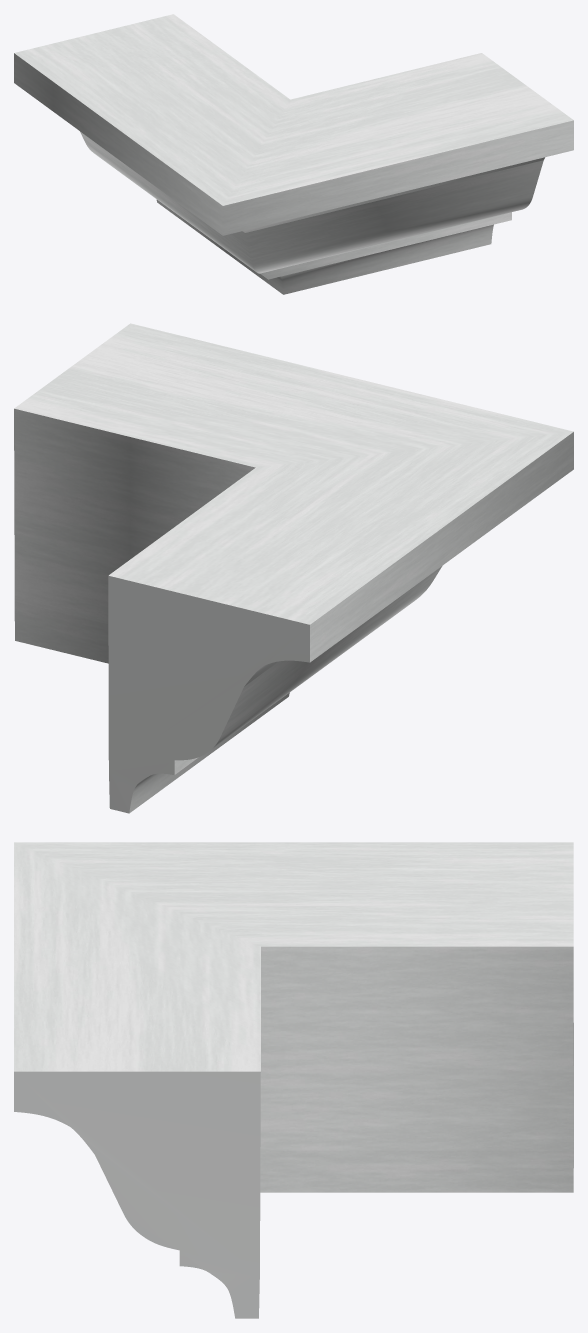
Rendered from crown molding outside corner.FBX.
The picture shows the model from 3 angles, top to bottom: view 1: azimuth 30°, elevation 25°; view 2: azimuth 150°, elevation 25°; view 3: azimuth 270°, elevation 25°; orthographic projection. The views are drawn at different scales.
Visible parts, largest first — view 1: Line013; view 2: Line013; view 3: Line013.
Part boxes in pixels (x1,y1,x2,y2): Line013: [14, 14, 573, 294]; Line013: [14, 323, 573, 813]; Line013: [14, 842, 573, 1318].
Bounding box in the file's own units: 99.74 × 50.03 × 103.
Materials: 1 (1 with a texture image).
